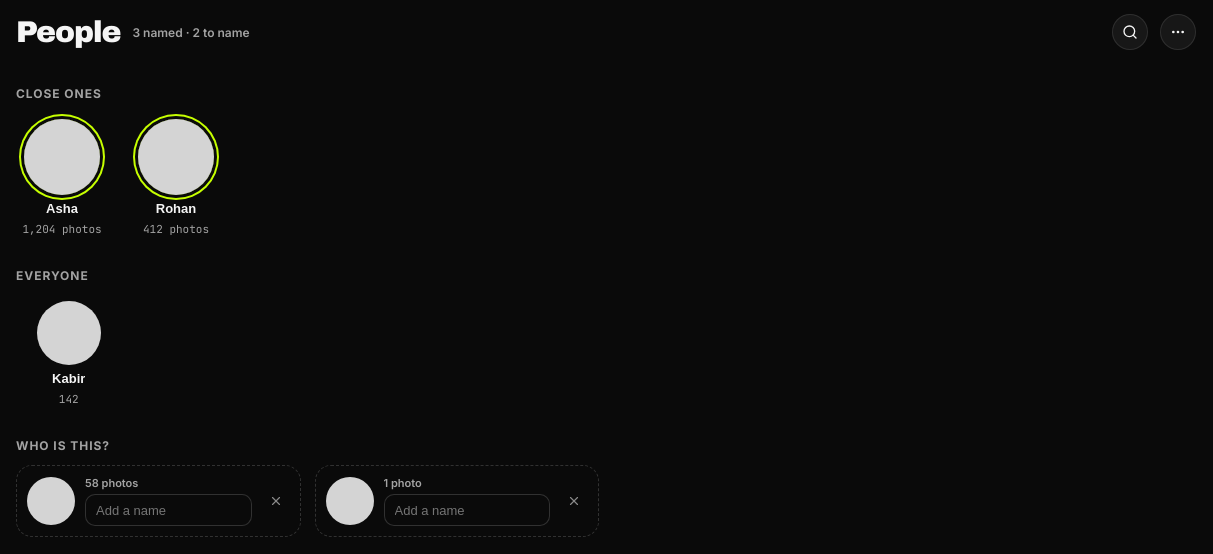
Test: PeopleOverview › names a group once, says when it adds to someone, and never changes their relationship
The width and height of the screenshot is (1213, 554).
Later steps or results of the test are not shown.
In the field named "Name for this face (58 photos)": [168, 510] box [85, 494, 252, 526], type "rohan"
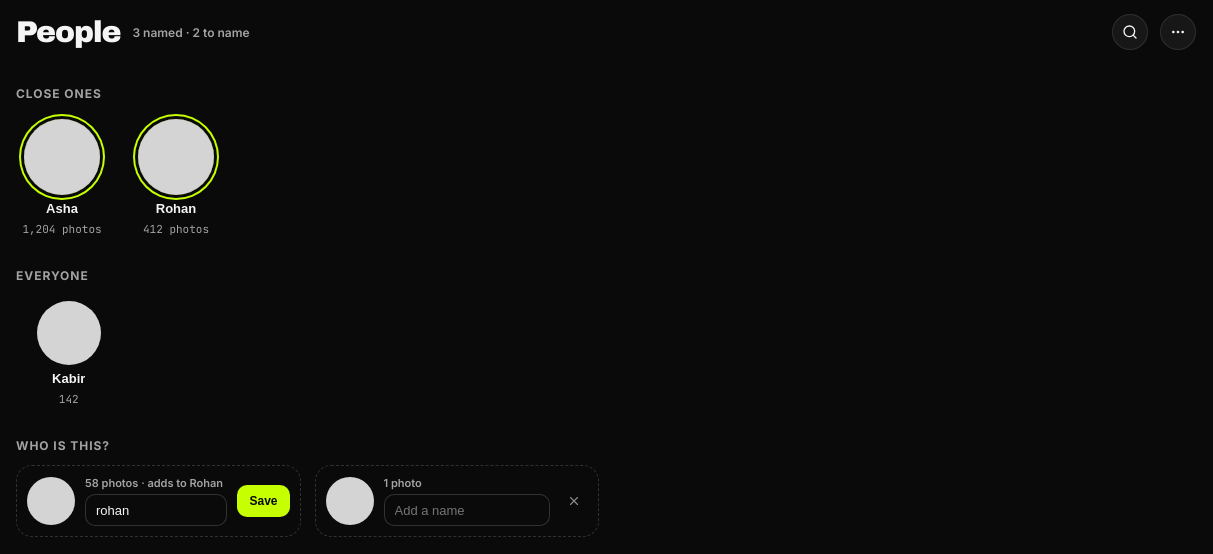
Now the text "58 photos · adds to Rohan" is shown, box [85, 476, 228, 490]
